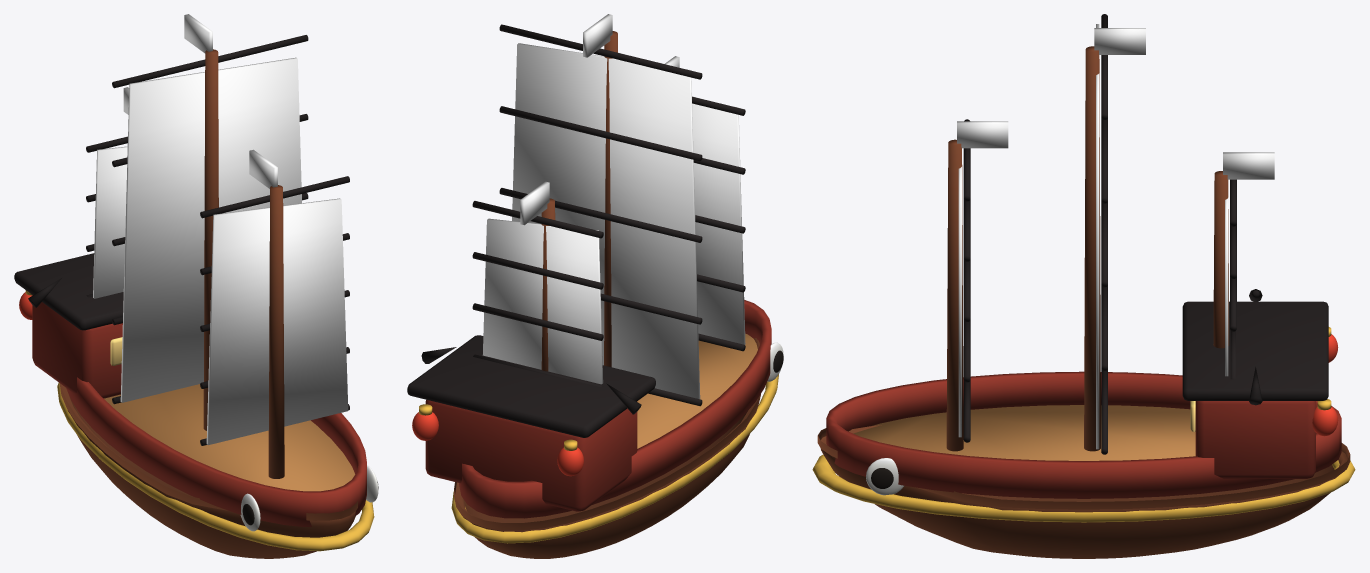
The model's file is junco.glb.
The picture shows the model from 3 angles, left to right: view 1: azimuth 30°, elevation 25°; view 2: azimuth 150°, elevation 25°; view 3: azimuth 270°, elevation 25°; orthographic projection. The views are drawn at different scales.
Parts seen in each view (by area): view 1: Junco_fijo; view 2: Junco_fijo; view 3: Junco_fijo.
Boxes of the visible parts, box(x1,y1,x2,y2) form: Junco_fijo: box(14, 14, 378, 558); Junco_fijo: box(407, 14, 783, 558); Junco_fijo: box(812, 14, 1355, 558).
Bounding box in the file's own units: 1.5 × 3.33 × 3.16.
2 materials, 2 textured.
